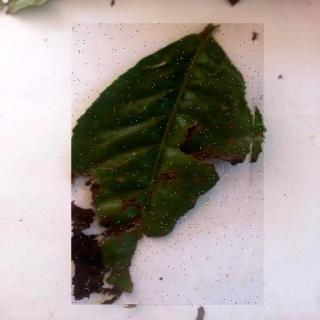Brown Blight: (73, 25, 266, 307)
